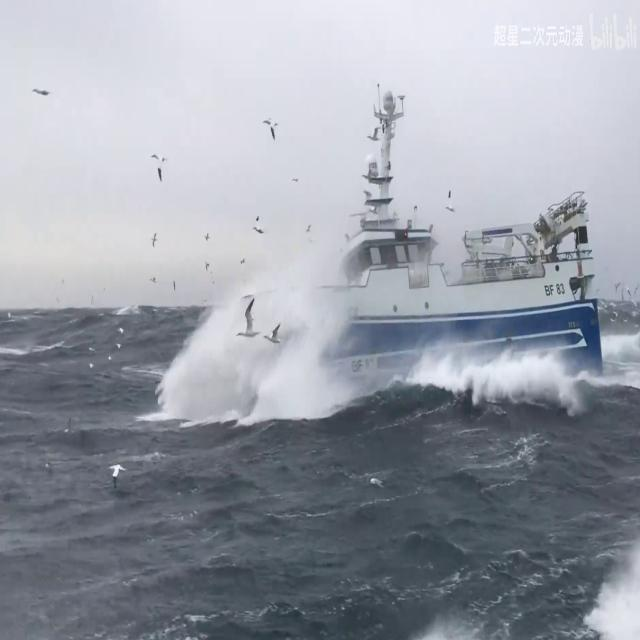houseboat: (230, 93, 600, 403)
